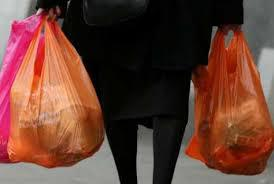Plastic: (0, 6, 102, 169), (188, 22, 273, 183)
